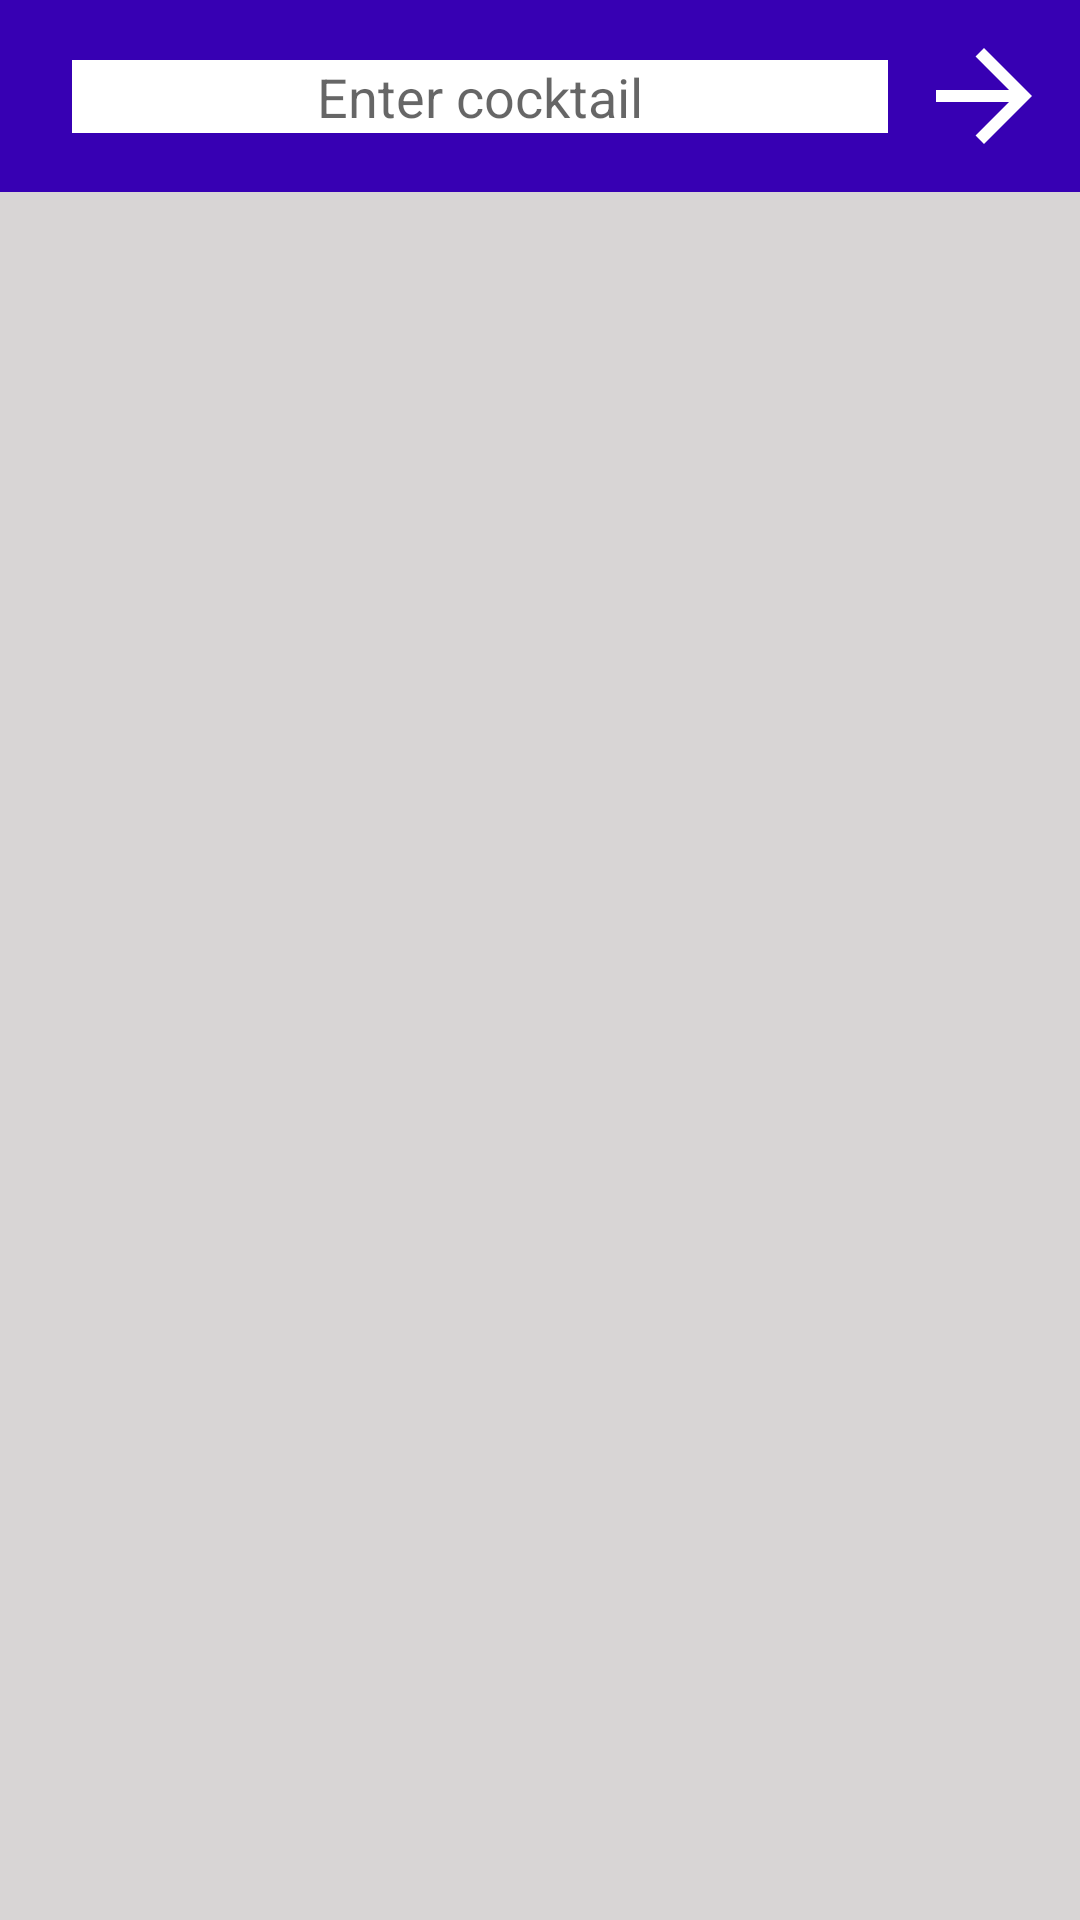

Icons on this 1080 × 1920 Android screen, each with the point to tap as [x,y]:
arrow forward: [984,96]
